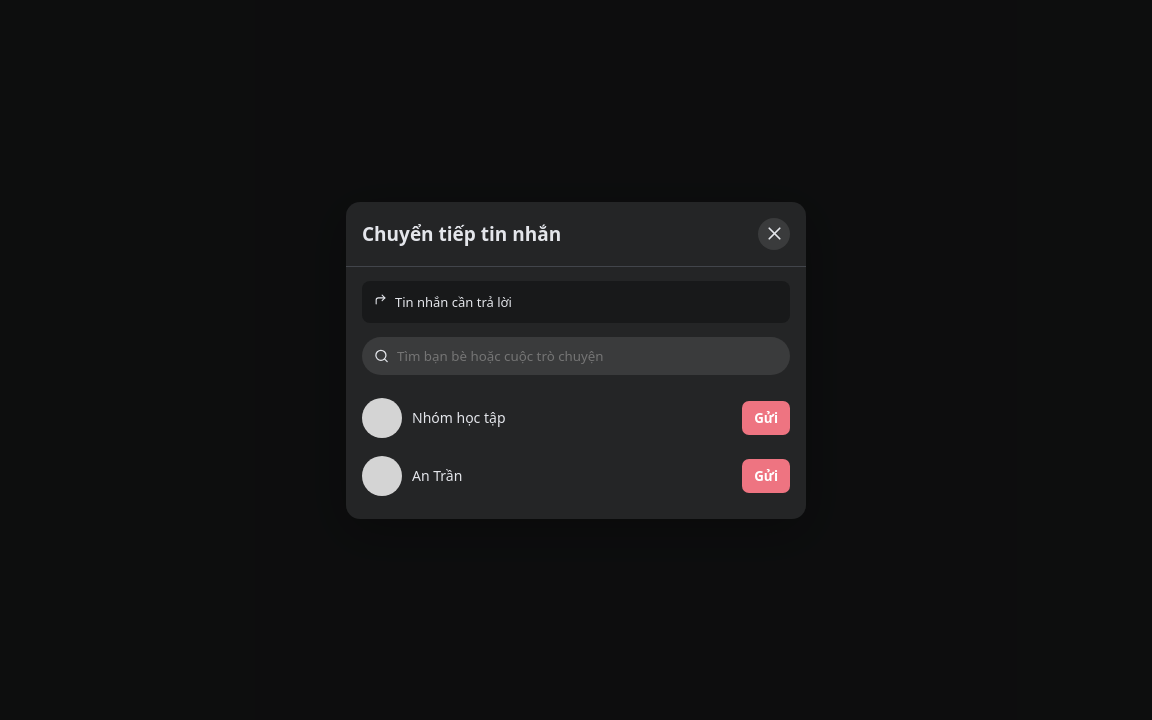
Test: forward picker lists conversations, creates a conversation for a friend, and prevents repeat sends
Expected: the text "Nhóm học tập" is shown, [412,408,506,427]
Expected: the text "An Trần" is shown, [412,466,462,485]
In the field: (588, 356) [397,346,778,364], type "An Tran"
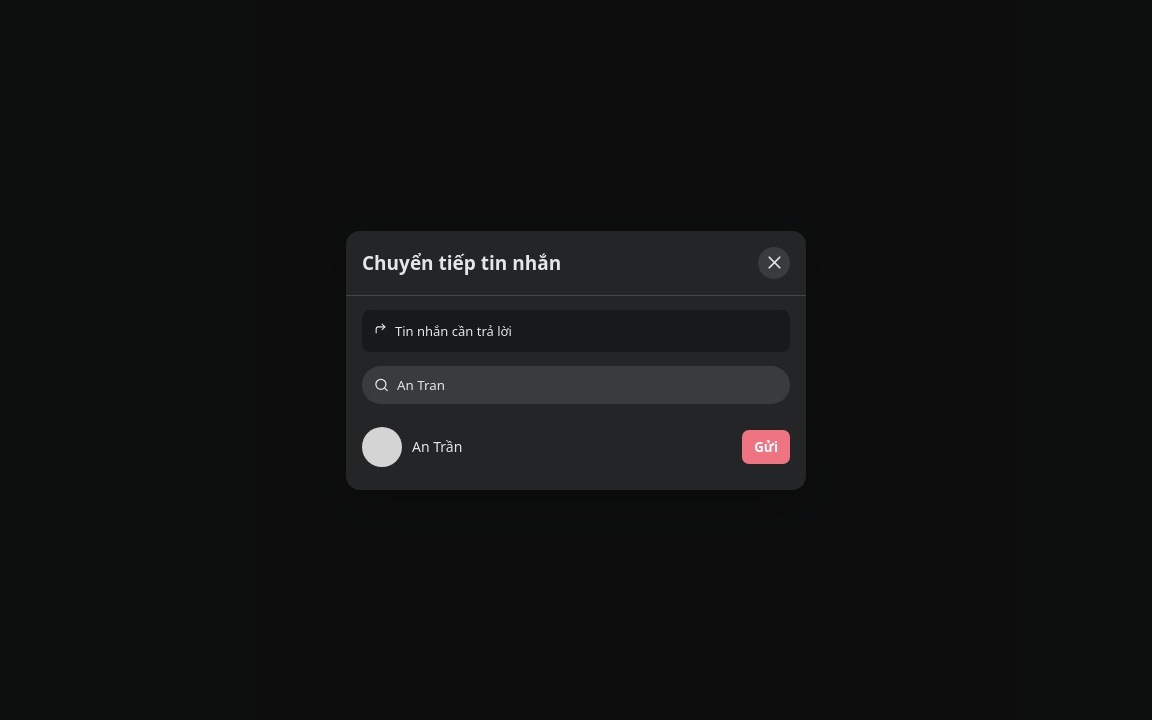
Expected: the text "Nhóm học tập" is gone
Click the button "Gửi": (766, 446) [742,430,790,464]
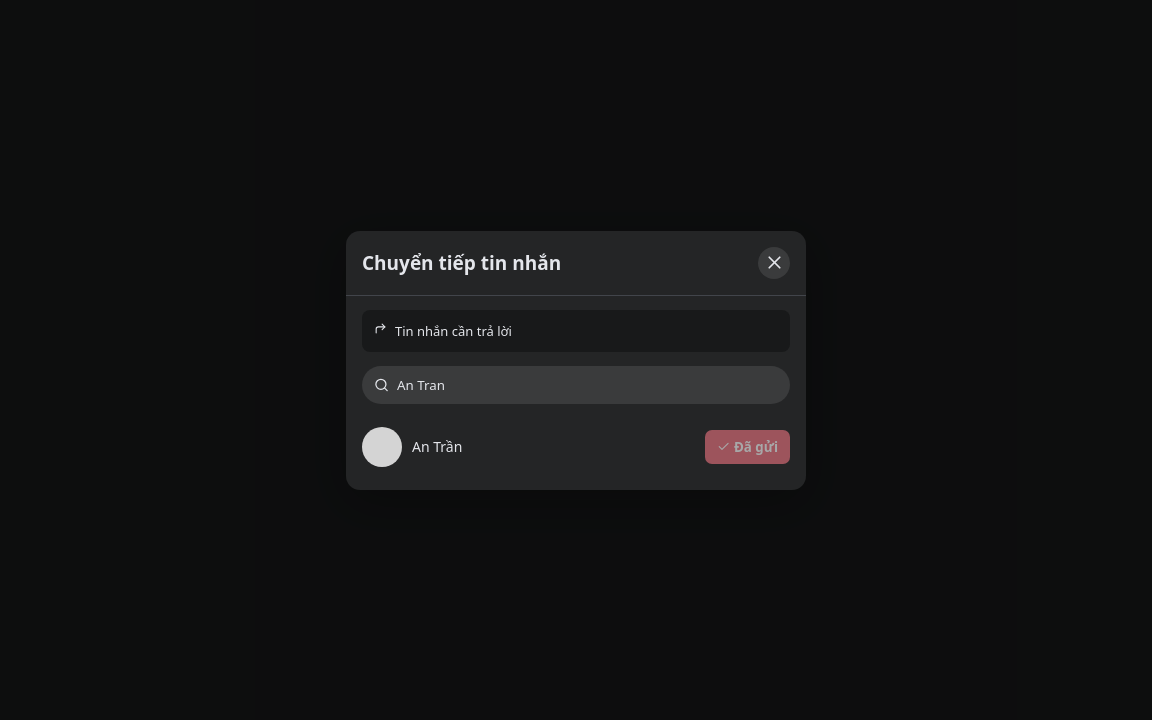
Expected: the button "Đã gửi" is disabled, [705,430,790,464]
